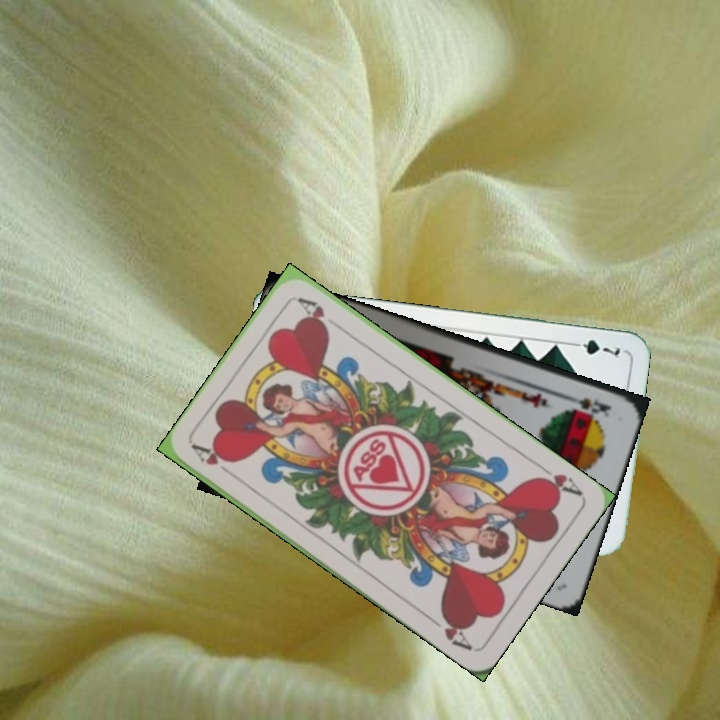G7: (566, 335, 623, 358)
HA: (189, 440, 241, 482), (532, 459, 585, 499)
SK: (560, 390, 614, 421)
